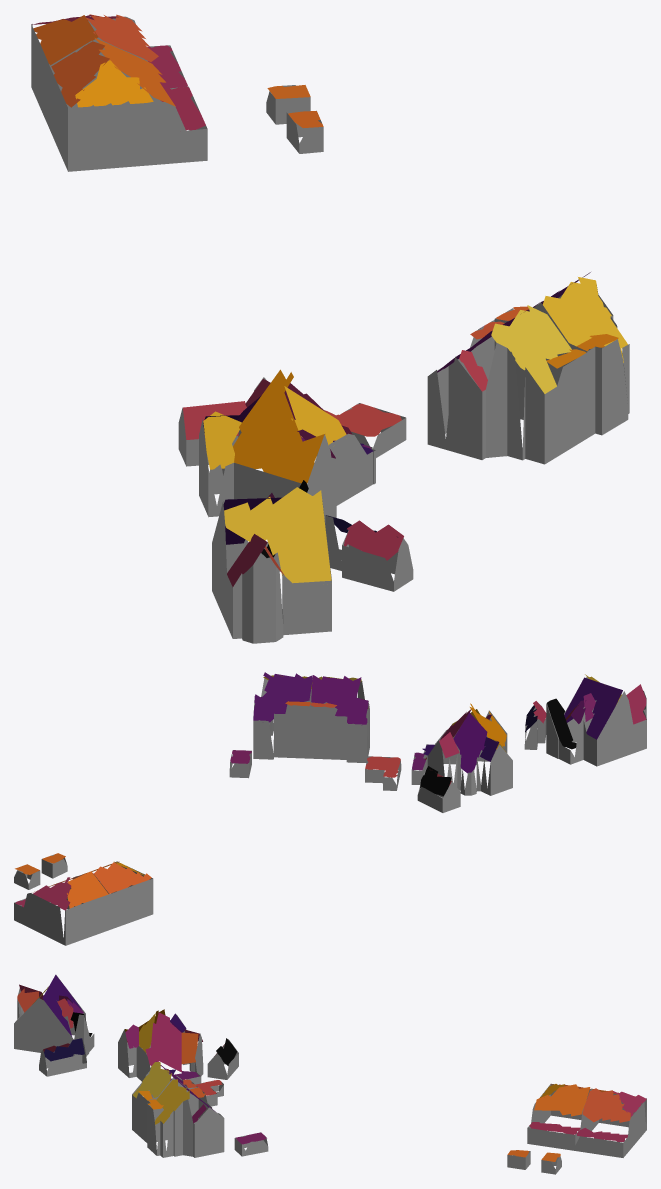
Rendered from campus_84000_446000.glb.
3 renders of one model, top to bottom at view 1: azimuth 30°, elevation 25°; view 2: azimuth 150°, elevation 25°; view 3: azimuth 270°, elevation 25°, orthographic. The views are drawn at different scales.
Bounding box in the file's own units: 61 × 12.52 × 112.
